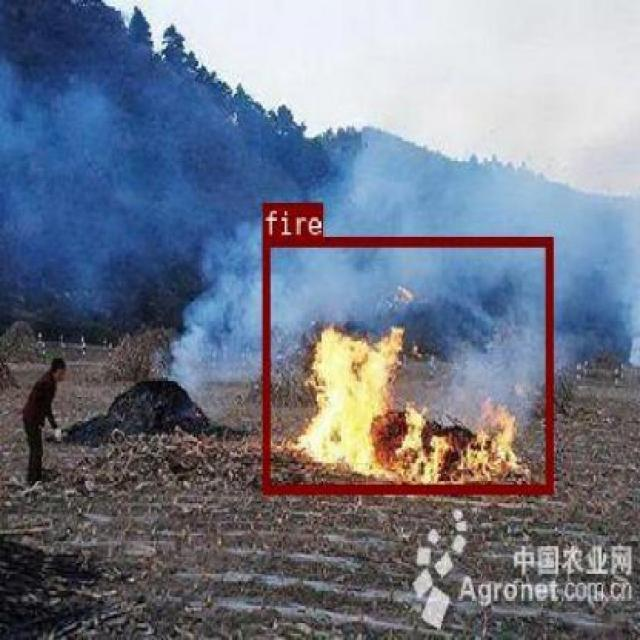Fire: (263, 236, 552, 493)
Smoke: (7, 54, 194, 313), (352, 114, 618, 232), (562, 252, 634, 382), (198, 242, 260, 382)
